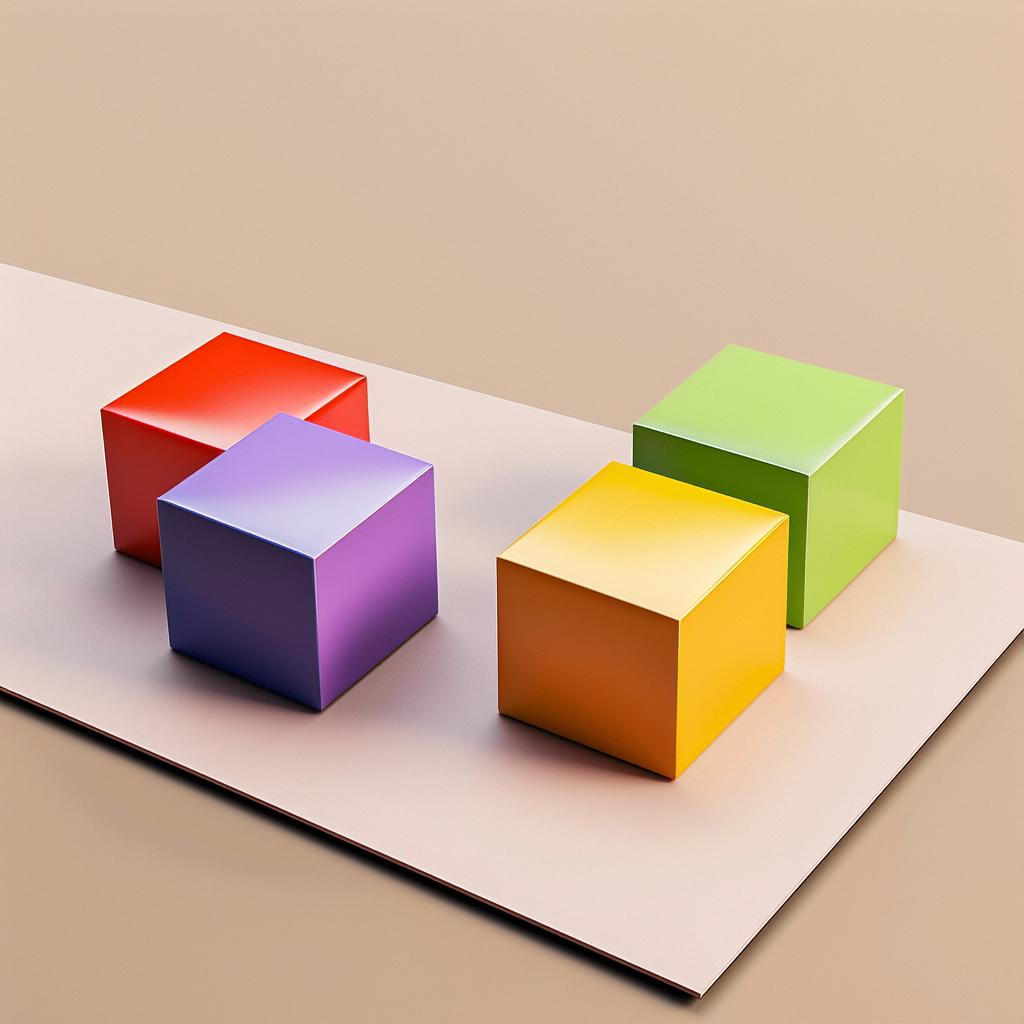cube: (494, 459, 790, 781), (154, 410, 438, 712), (630, 341, 905, 629), (99, 329, 370, 569)
